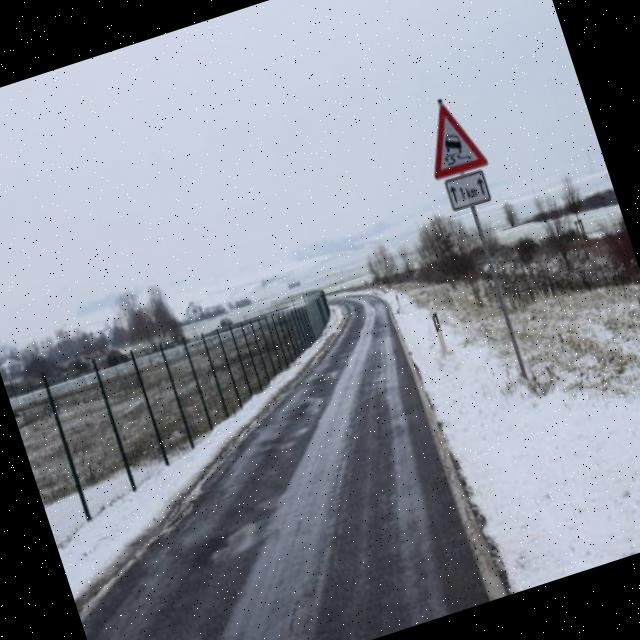road_slippery: (406, 82, 496, 188)
